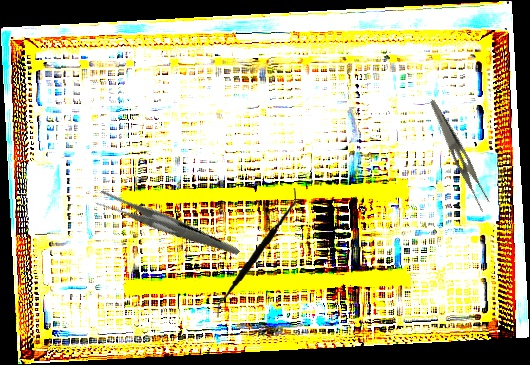Dressing Forceps: (92, 157, 241, 295), (417, 98, 498, 214)
Spatula Surgical: (215, 184, 297, 322)
